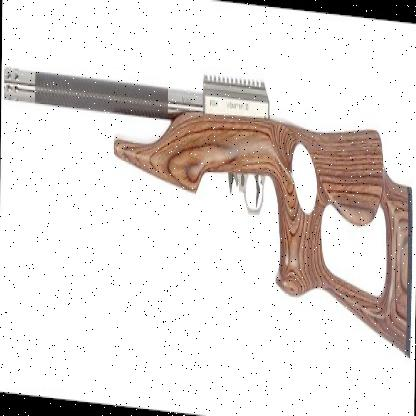rifle: (1, 55, 416, 369)
